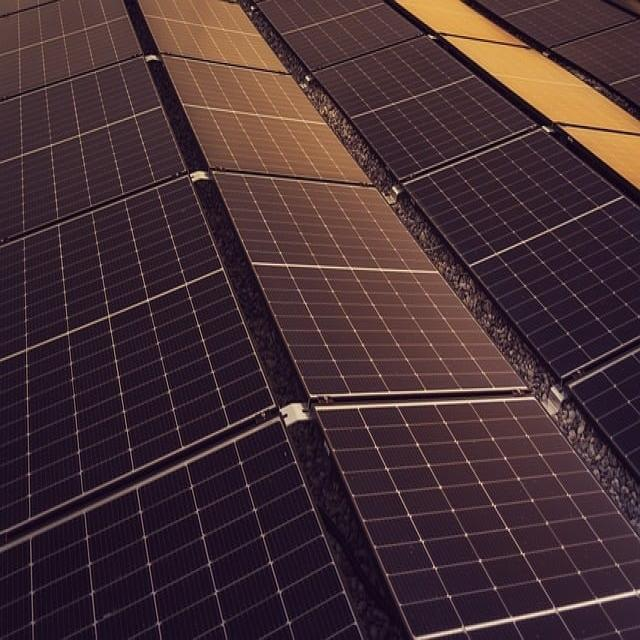clean-solar-panel: (141, 2, 640, 636), (0, 5, 358, 636), (264, 4, 640, 473)
